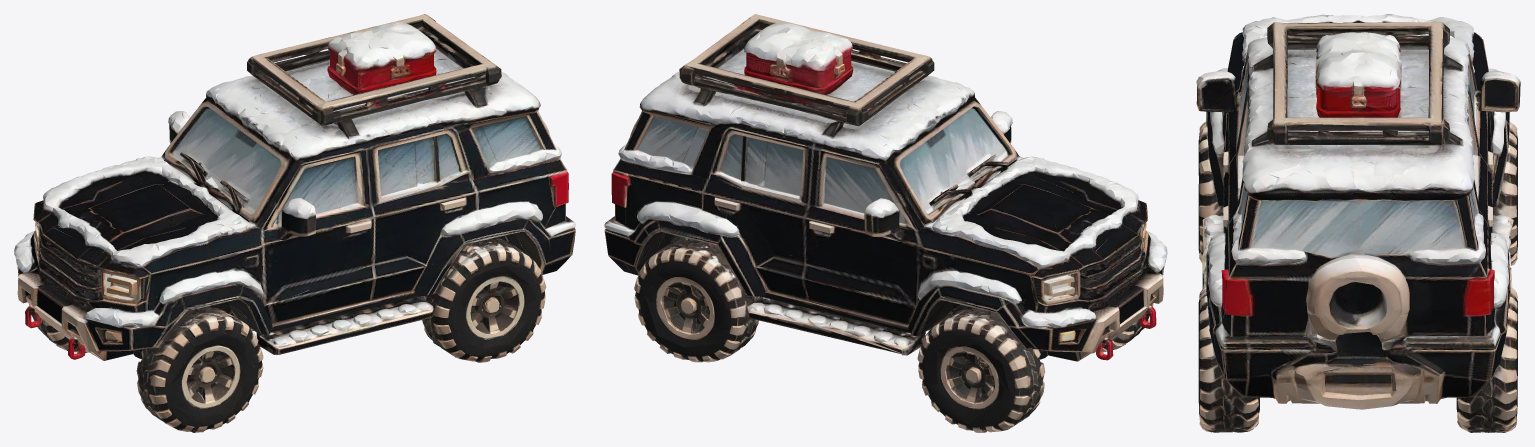
File: suv.glb
3 views of the same model, side by side, from view 1: azimuth 30°, elevation 25°; view 2: azimuth 150°, elevation 25°; view 3: azimuth 270°, elevation 25° (orthographic). The views are drawn at different scales.
Size of the model in its own units: 1.9 by 1.1 by 0.917.
Materials: 1 (1 with a texture image).
